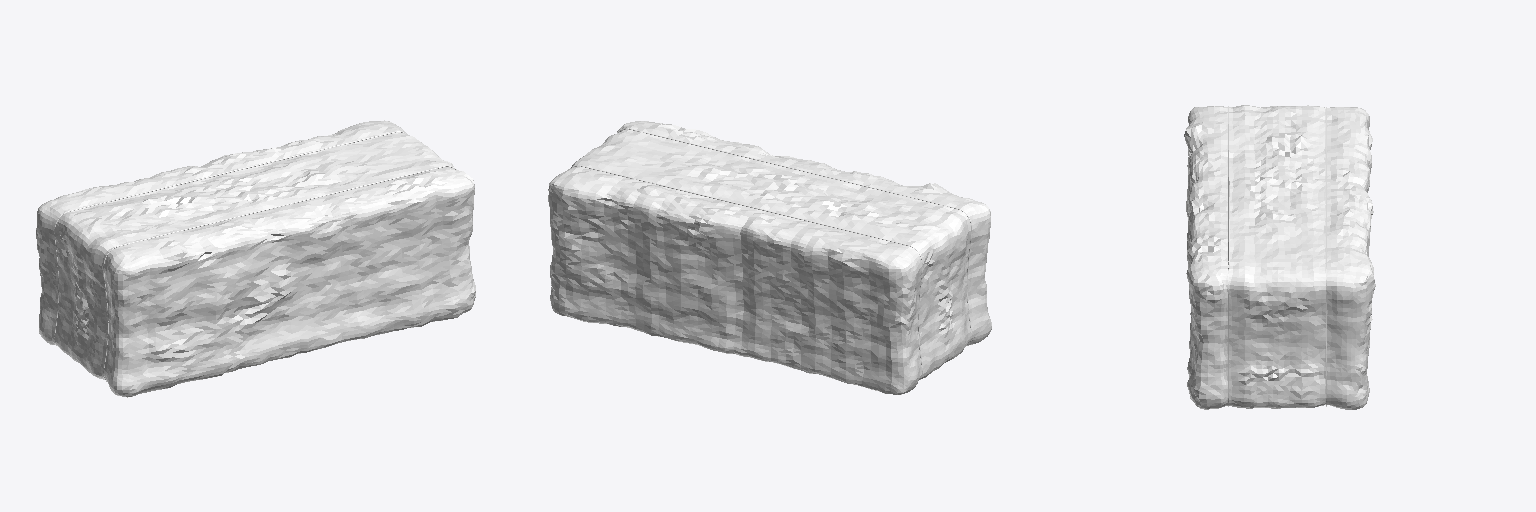
Rendered from wall.obj.
3 views of the same model, side by side, from view 1: azimuth 30°, elevation 25°; view 2: azimuth 150°, elevation 25°; view 3: azimuth 270°, elevation 25° (orthographic).
Parts seen in each view (by area): view 1: 11543_BundleOfStraw_V2_l1.005; view 2: 11543_BundleOfStraw_V2_l1.005; view 3: 11543_BundleOfStraw_V2_l1.005.
Boxes of the visible parts, x1=… form: 11543_BundleOfStraw_V2_l1.005: x1=36, y1=120, x2=475, y2=397; 11543_BundleOfStraw_V2_l1.005: x1=548, y1=121, x2=991, y2=394; 11543_BundleOfStraw_V2_l1.005: x1=1184, y1=105, x2=1375, y2=409.
Size of the model in its own units: 15.11 by 5.74 by 6.87.